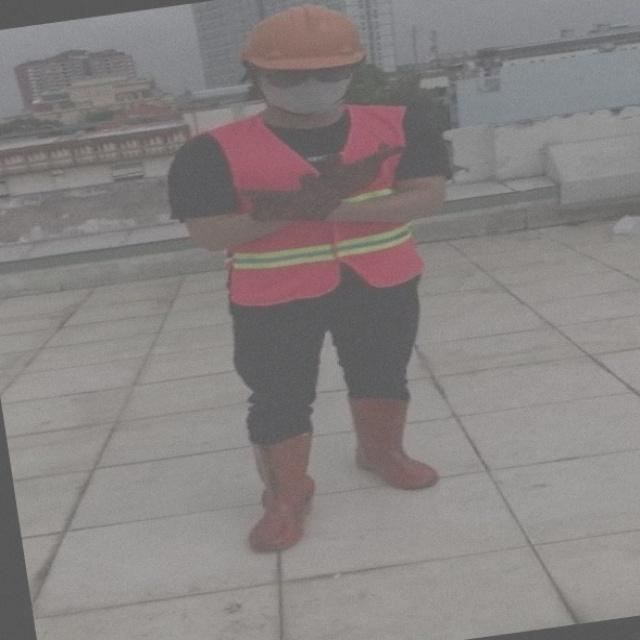helmet: (233, 9, 364, 74)
safety_vest: (205, 108, 428, 298)
